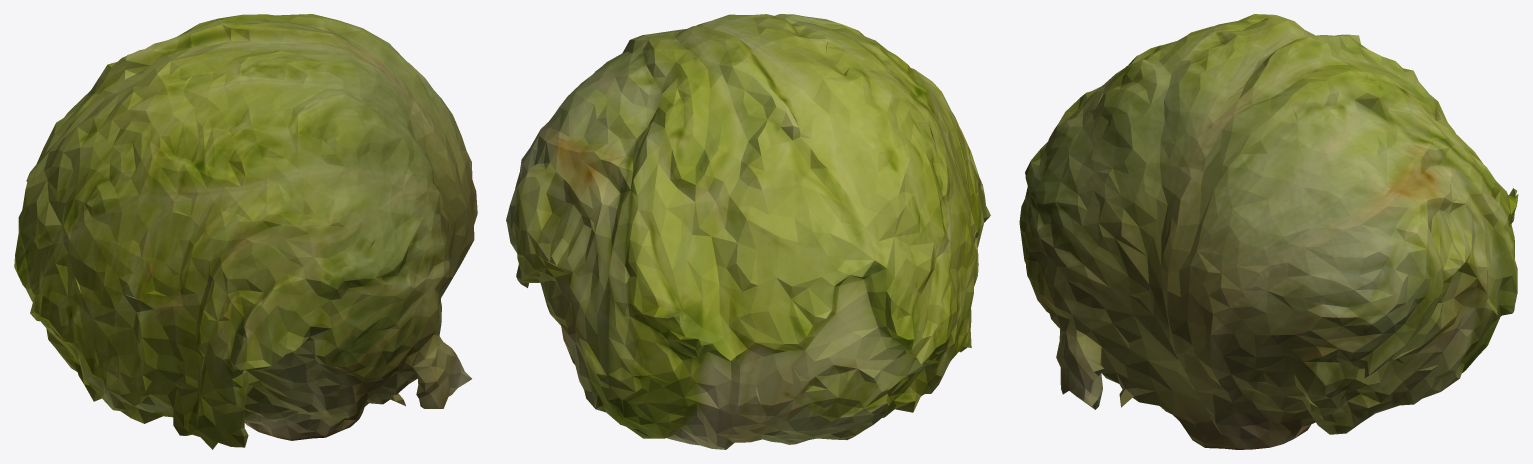
Rendered from lettuce.obj.
3 views of the same model, side by side, from view 1: azimuth 30°, elevation 25°; view 2: azimuth 150°, elevation 25°; view 3: azimuth 270°, elevation 25° (orthographic). The views are drawn at different scales.
Parts seen in each view (by area): view 1: lettuce; view 2: lettuce; view 3: lettuce.
Boxes of the visible parts, x1,y1,x2,y2 form: lettuce: [14, 14, 477, 449]; lettuce: [506, 14, 990, 449]; lettuce: [1019, 14, 1518, 449].
Bounding box in the file's own units: 0.7422 × 0.68 × 0.8079.
